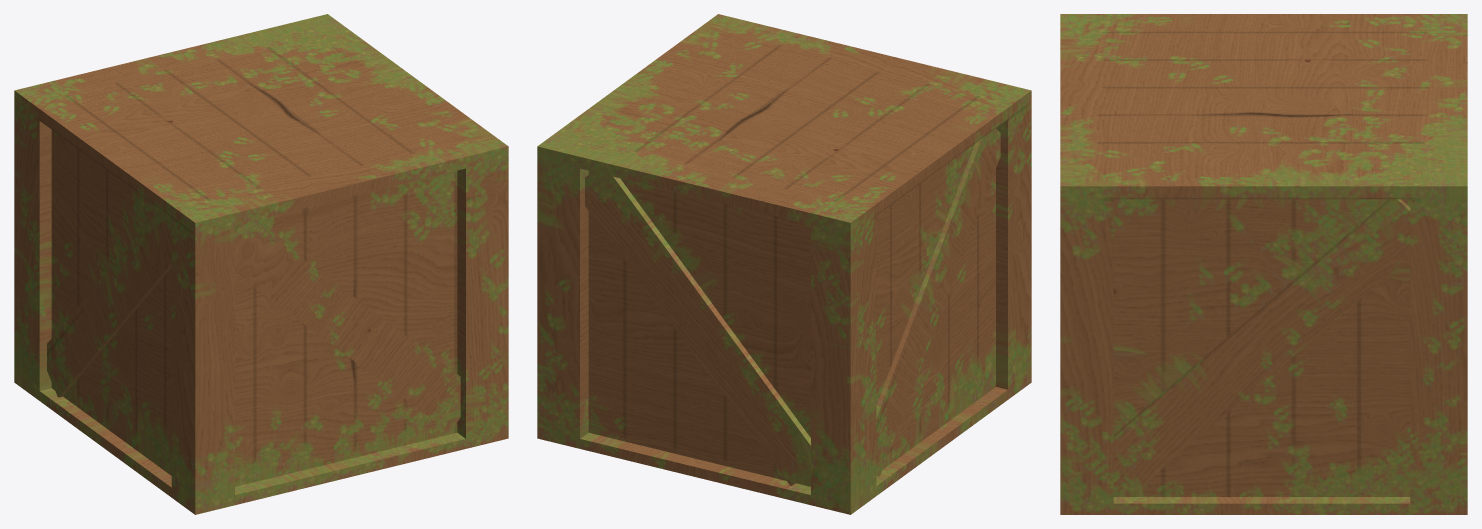
The model's file is woodbox.fbx.
3 views of the same model, side by side, from view 1: azimuth 30°, elevation 25°; view 2: azimuth 150°, elevation 25°; view 3: azimuth 270°, elevation 25° (orthographic). The views are drawn at different scales.
Parts seen in each view (by area): view 1: pCube57; view 2: pCube57; view 3: pCube57.
Boxes of the visible parts, left/top/right/bottom form: pCube57: left=14, top=14, right=508, bottom=514; pCube57: left=537, top=14, right=1031, bottom=514; pCube57: left=1060, top=14, right=1467, bottom=514.
Bounding box in the file's own units: 14.32 × 12.75 × 14.32.
Materials: 1 (1 with a texture image).
